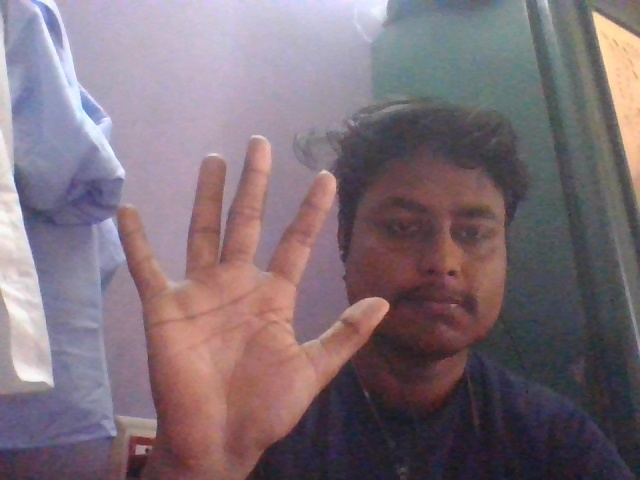hello: (105, 127, 372, 480)
